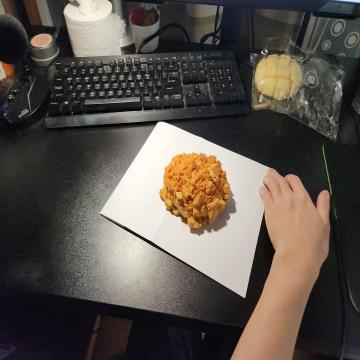soboru_bread: (161, 150, 231, 232)
